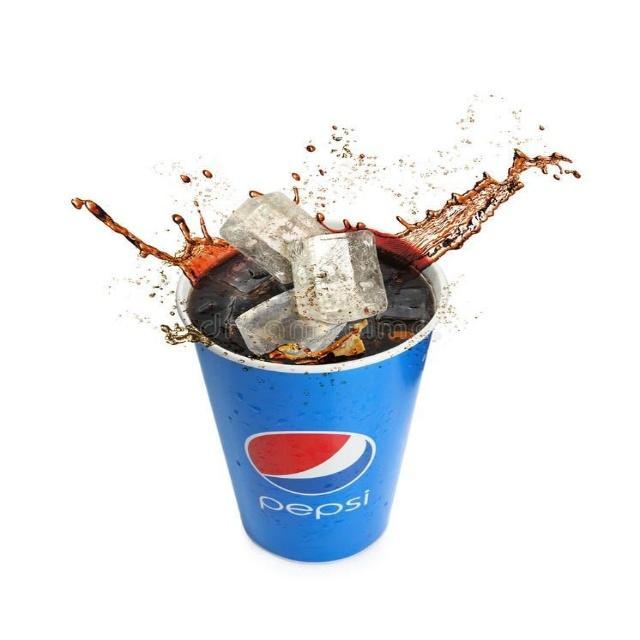paper_cup: (182, 225, 450, 565)
